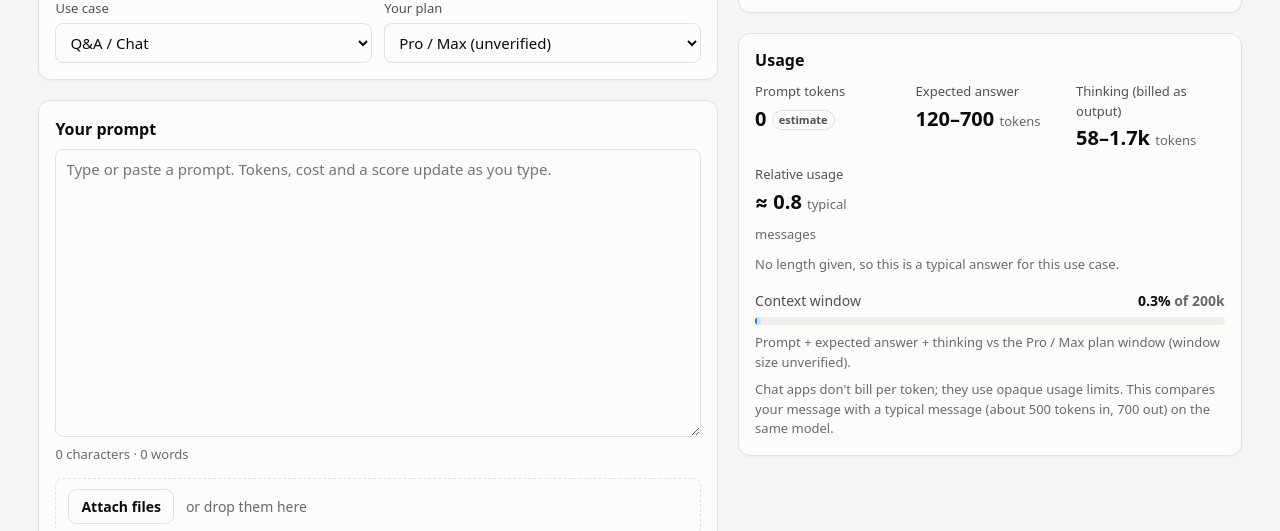
App (Simple mode) › uses the exact vendor count when the server has a key
Replace the text in the text box labelled "Your prompt" with "write something nice about dogs": (378, 292) [55,148,701,436]
(page scrolled)
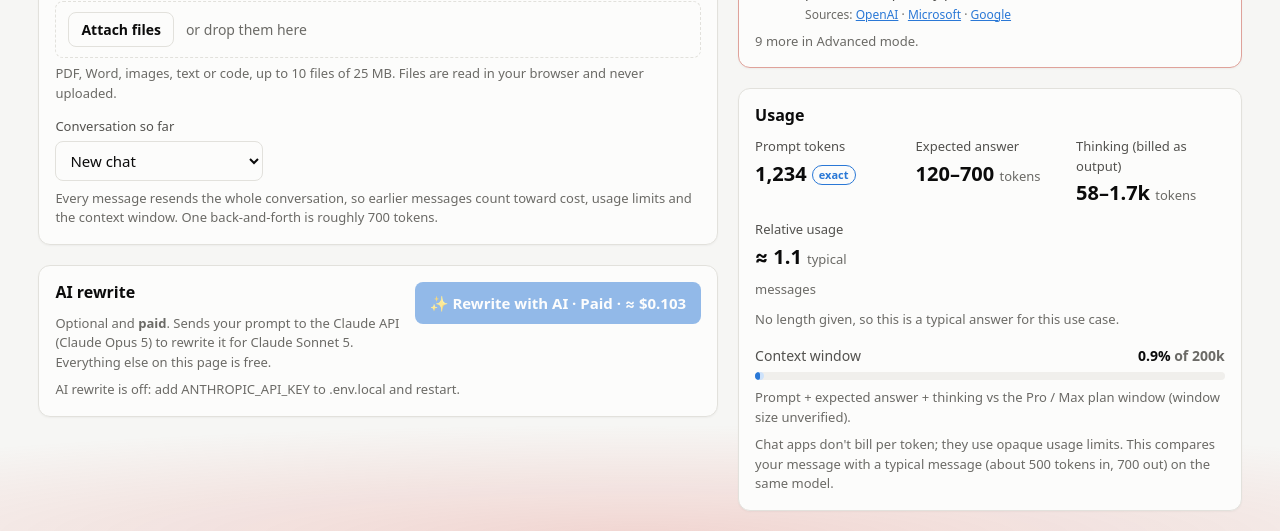
Check: the text "1,234" is shown, box [755,160,807,186]
Check: the text "exact" is shown, box [812,165,856,185]
